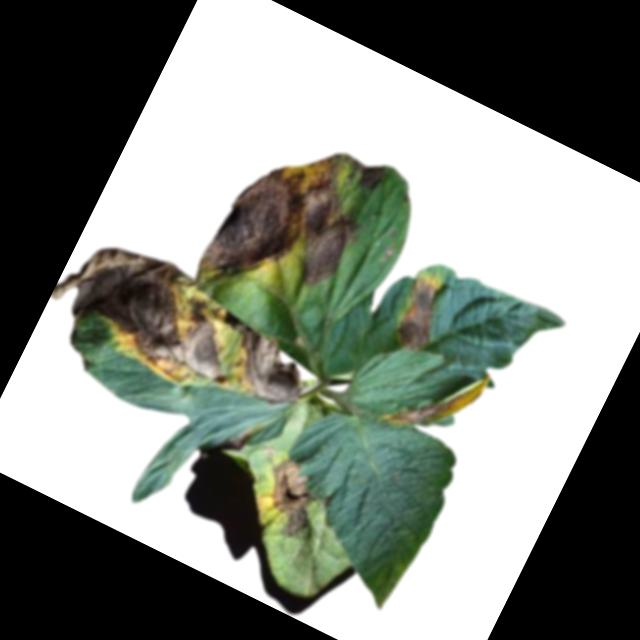Early_blight: (43, 225, 327, 437), (187, 118, 383, 333), (378, 339, 491, 455), (247, 452, 340, 548), (385, 268, 456, 358), (230, 415, 259, 451)
